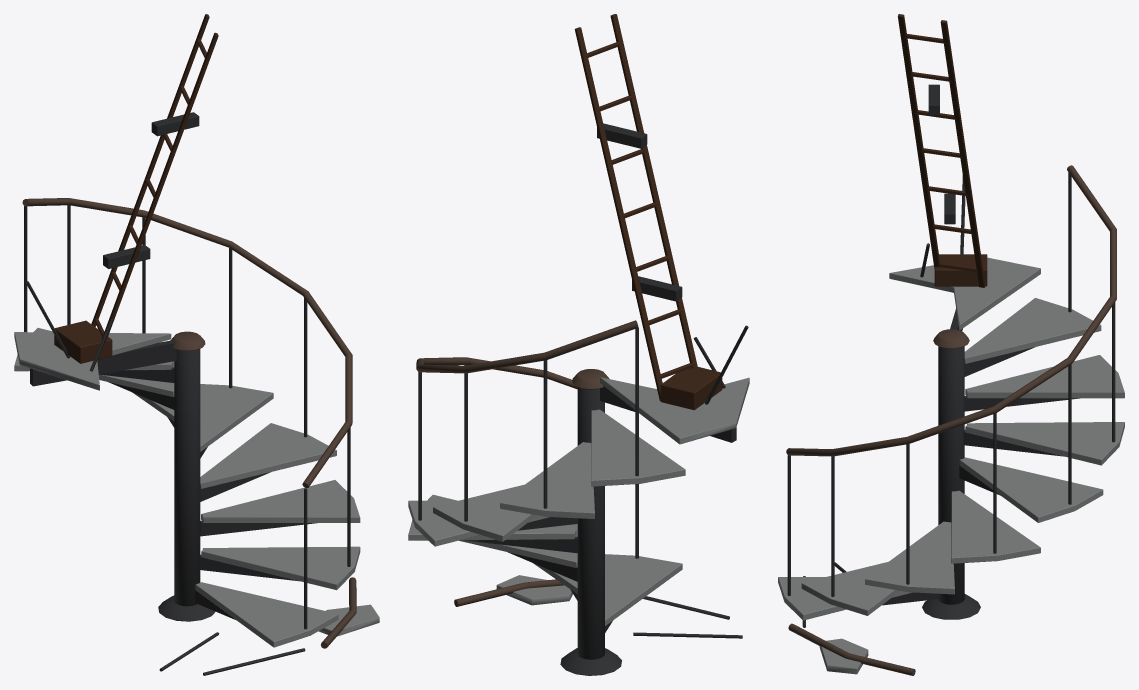
The model's file is stair_stump.glb.
3 renders of one model, left to right at view 1: azimuth 30°, elevation 25°; view 2: azimuth 150°, elevation 25°; view 3: azimuth 270°, elevation 25°, orthographic. The views are drawn at different scales.
Visible parts, largest first — view 1: stair_stump_body, IA_wedge_ladder; view 2: stair_stump_body, IA_wedge_ladder; view 3: stair_stump_body, IA_wedge_ladder.
Boxes of the visible parts, x1,y1,x2,y2 form: stair_stump_body: (14, 198, 379, 675); IA_wedge_ladder: (54, 14, 218, 363); stair_stump_body: (408, 320, 749, 675); IA_wedge_ladder: (574, 14, 722, 410); stair_stump_body: (778, 165, 1124, 675); IA_wedge_ladder: (897, 14, 987, 287).
Size of the model in its own units: 1.87 by 3.48 by 1.84.
